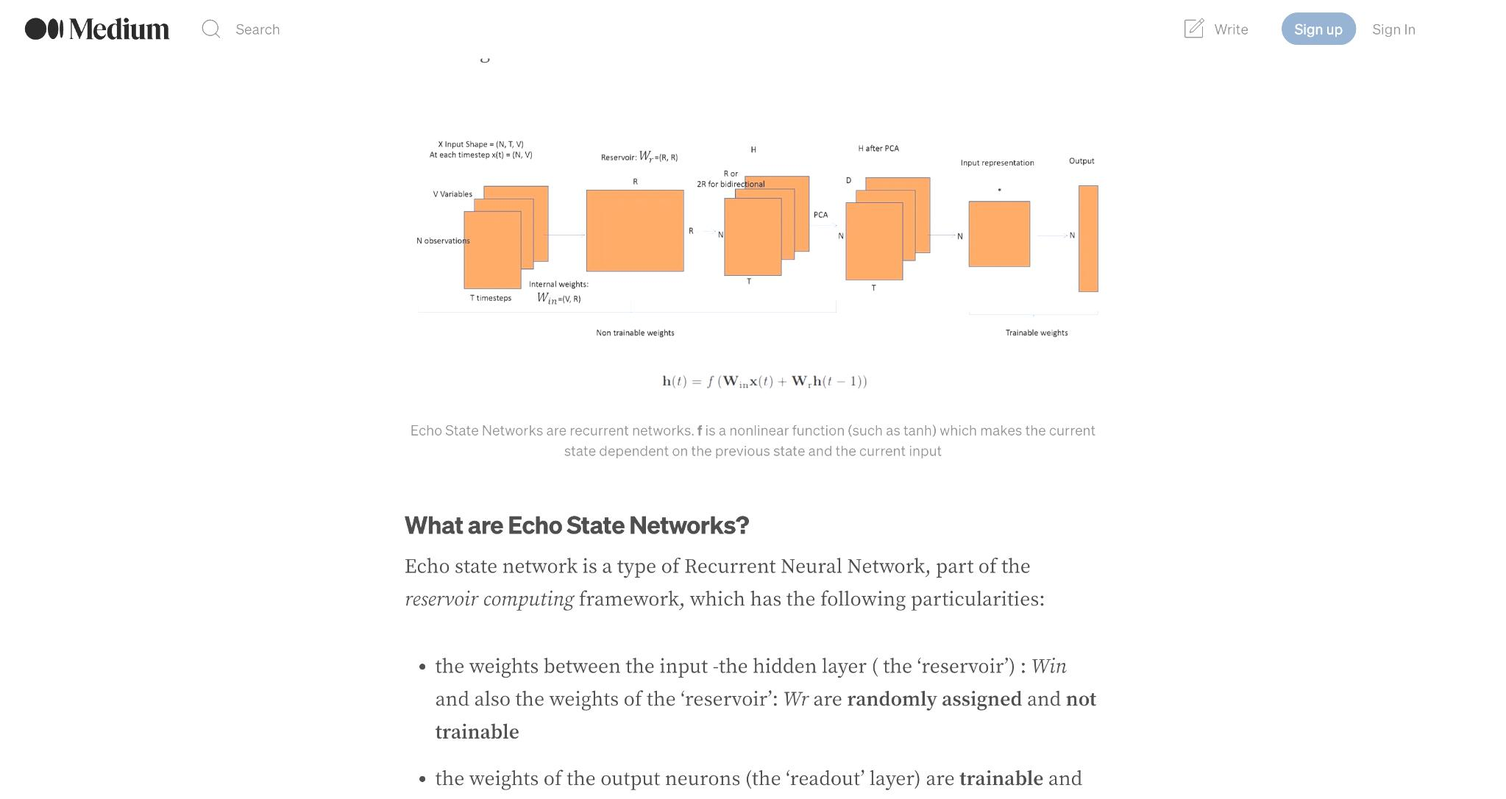webelement: (404, 116, 1101, 409), (404, 548, 1101, 614), (235, 8, 431, 48), (24, 17, 169, 39), (1182, 16, 1248, 40), (1281, 19, 1356, 37), (1449, 12, 1481, 44), (1373, 19, 1416, 37), (1182, 16, 1206, 40)
